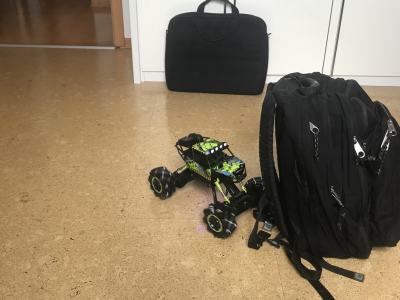remote control car: (146, 130, 269, 239)
